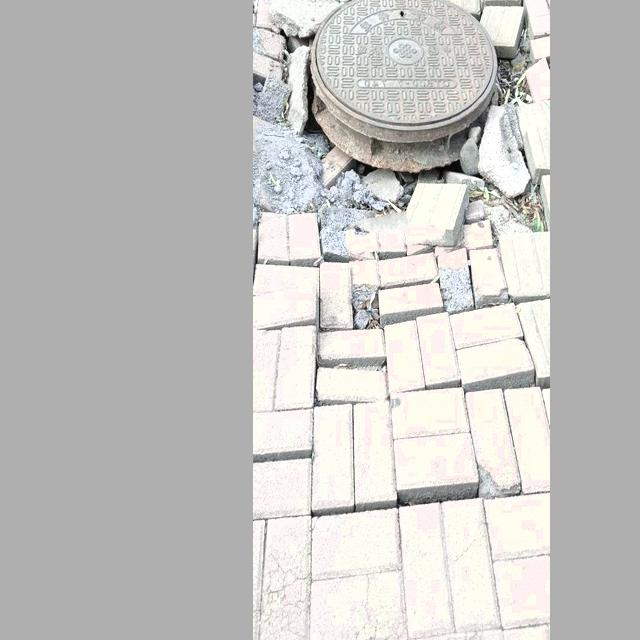circle: (257, 0, 544, 340)
